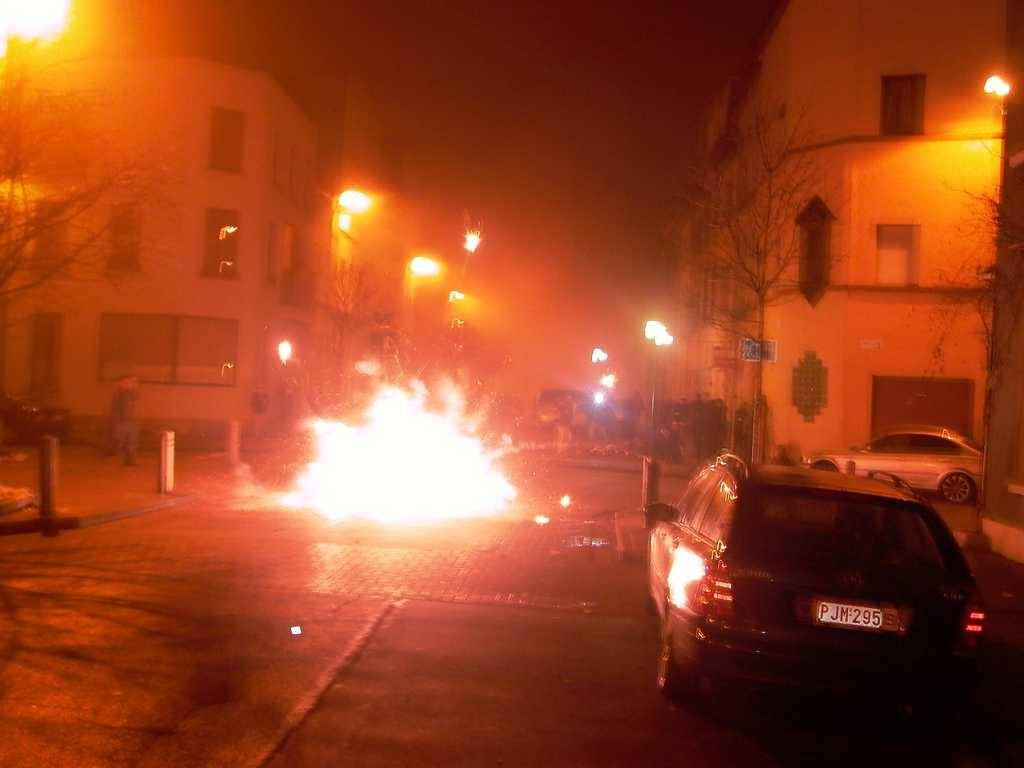fire: (326, 430, 486, 528)
